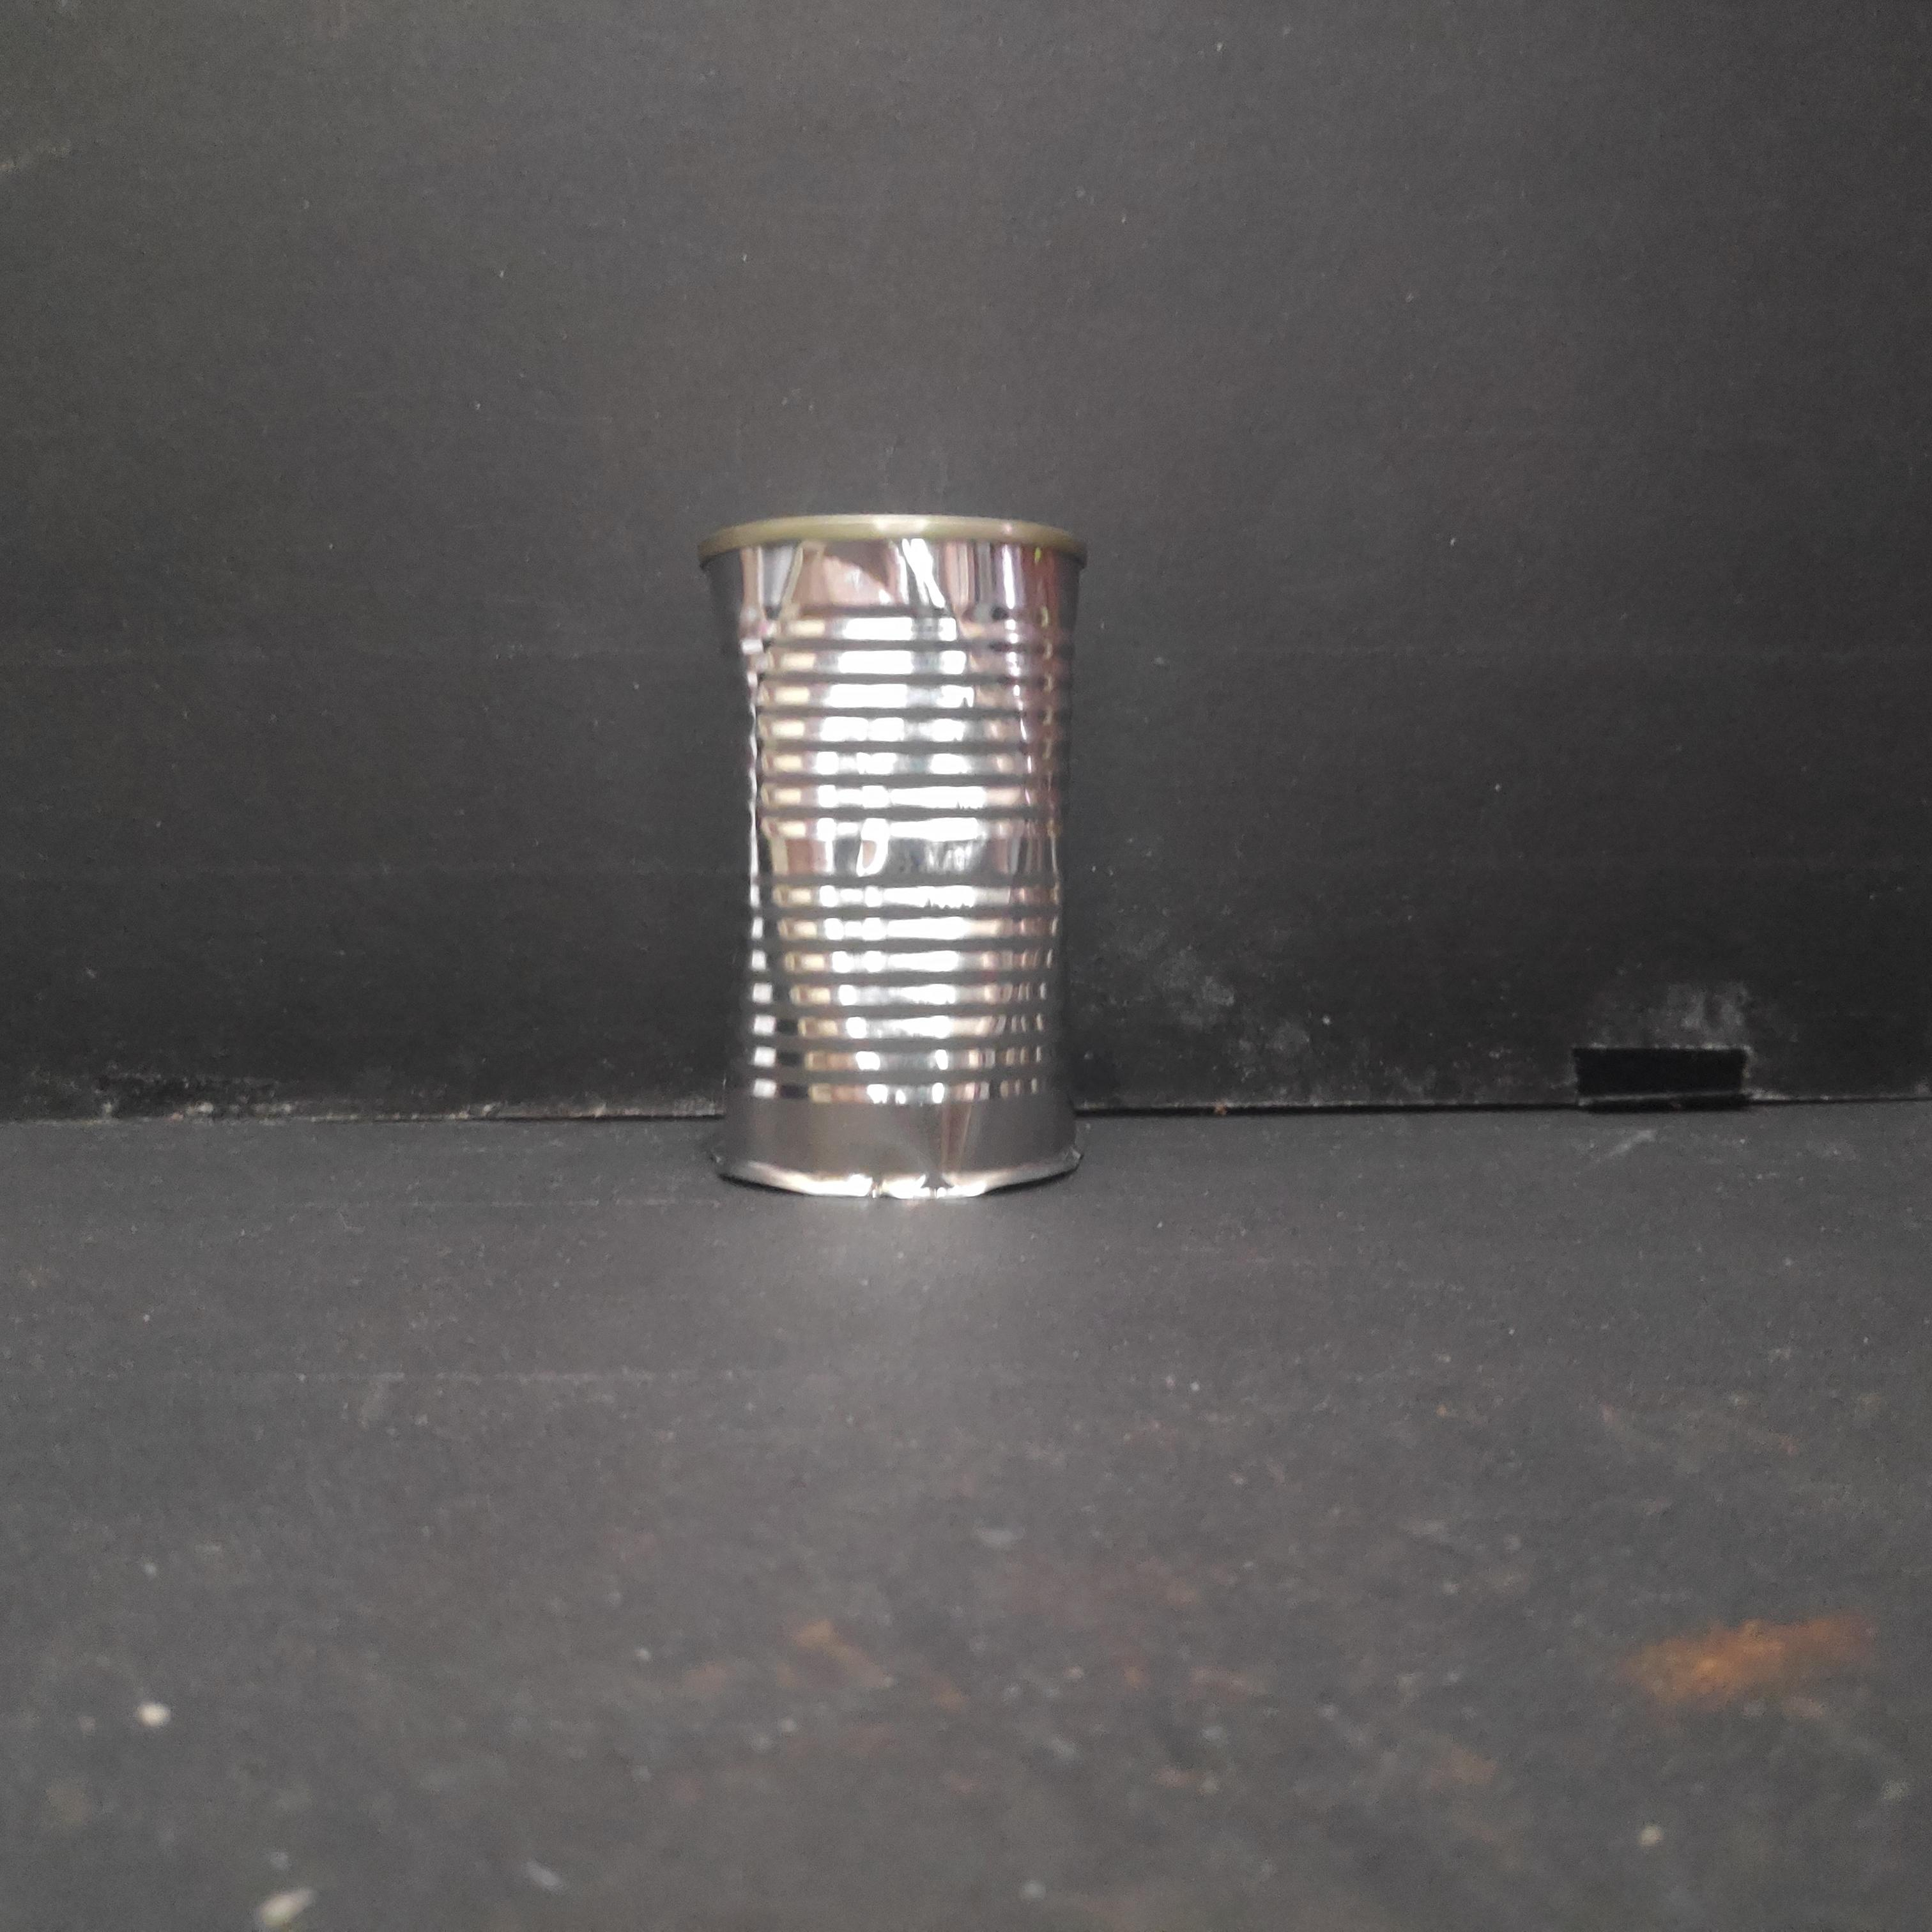Minor Defect: (688, 499, 1090, 1217)
